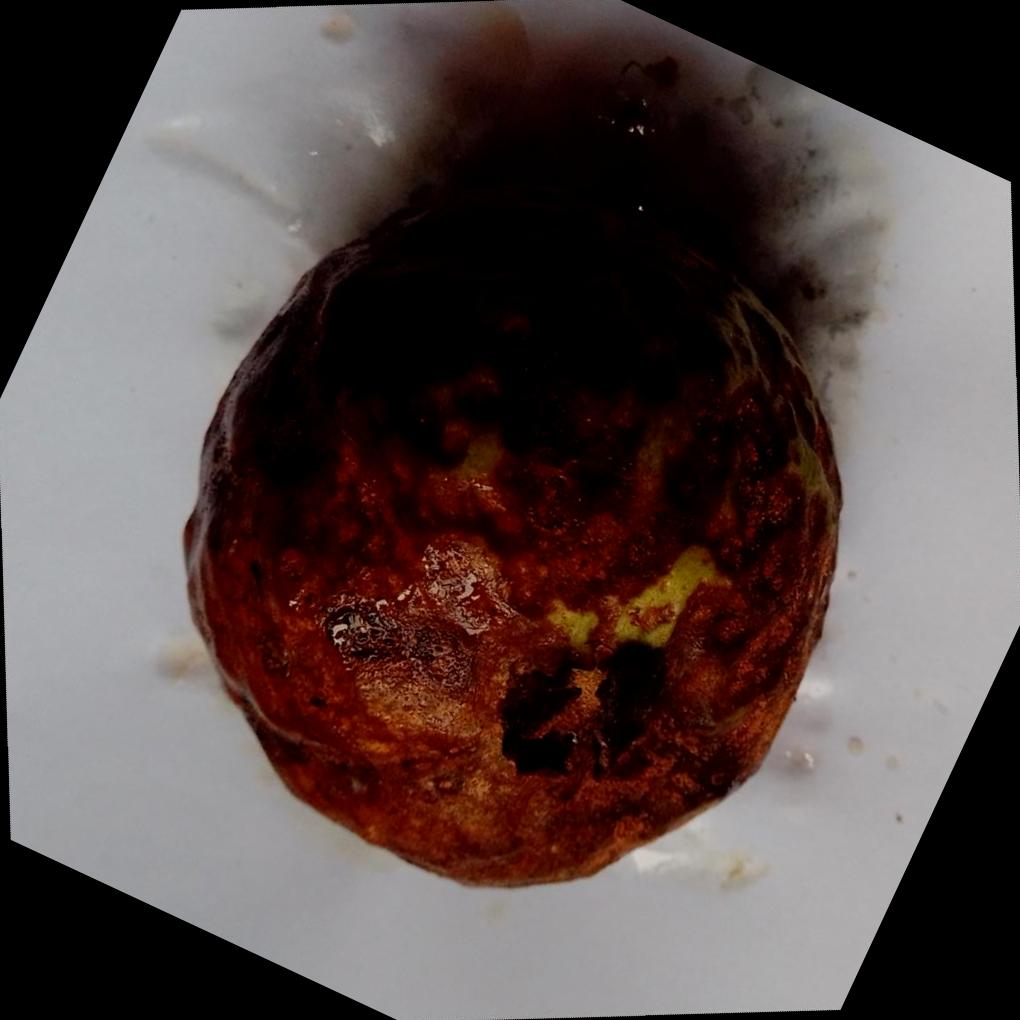FreshOrange: (183, 176, 848, 892)
